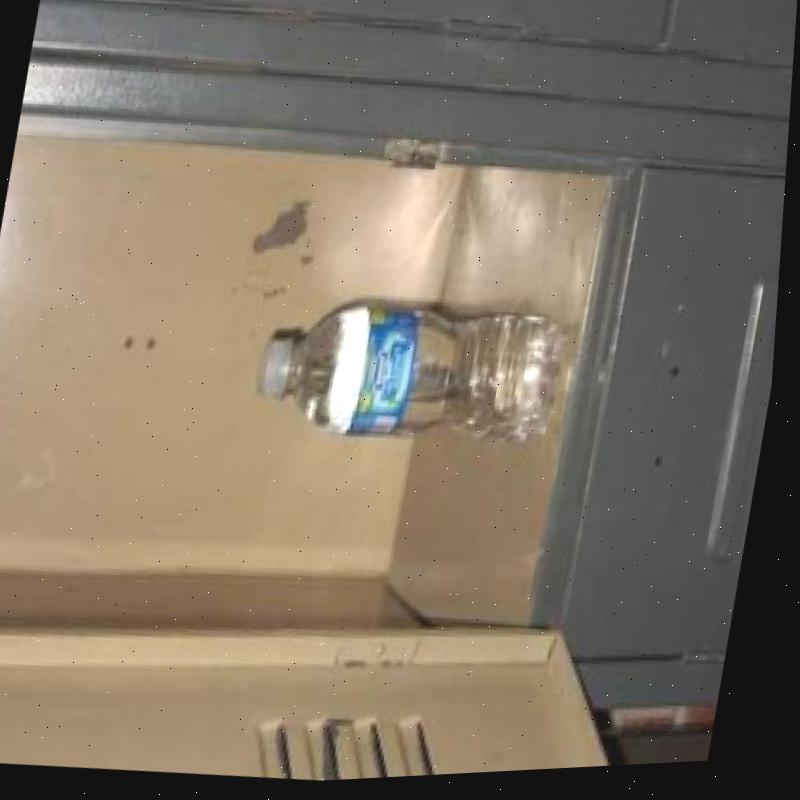botella: (256, 283, 577, 465)
